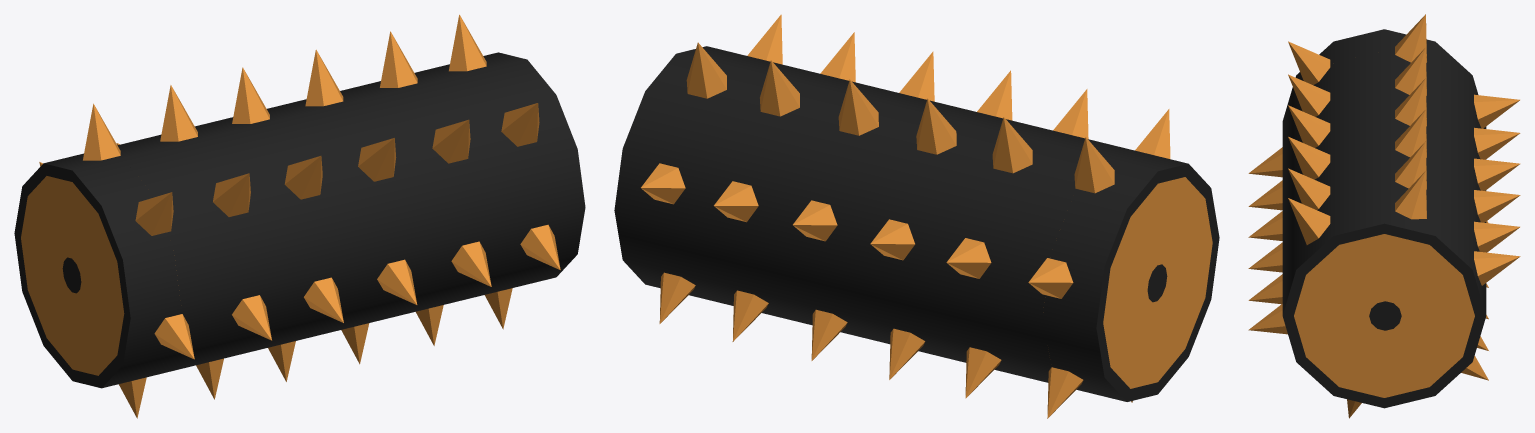
3 views of the same model, side by side, from view 1: azimuth 30°, elevation 25°; view 2: azimuth 150°, elevation 25°; view 3: azimuth 270°, elevation 25° (orthographic). The views are drawn at different scales.
Visible parts, largest first — view 1: Roller2; view 2: Roller2; view 3: Roller2.
Boxes of the visible parts, x1=… form: Roller2: x1=14, y1=14, x2=585, y2=418; Roller2: x1=614, y1=14, x2=1219, y2=418; Roller2: x1=1248, y1=14, x2=1520, y2=418.
Bounding box in the file's own units: 178 × 106 × 106.
